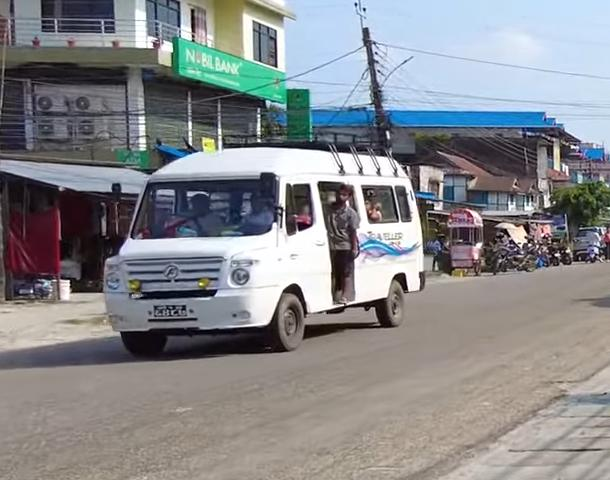micro_bus: (100, 140, 426, 359)
